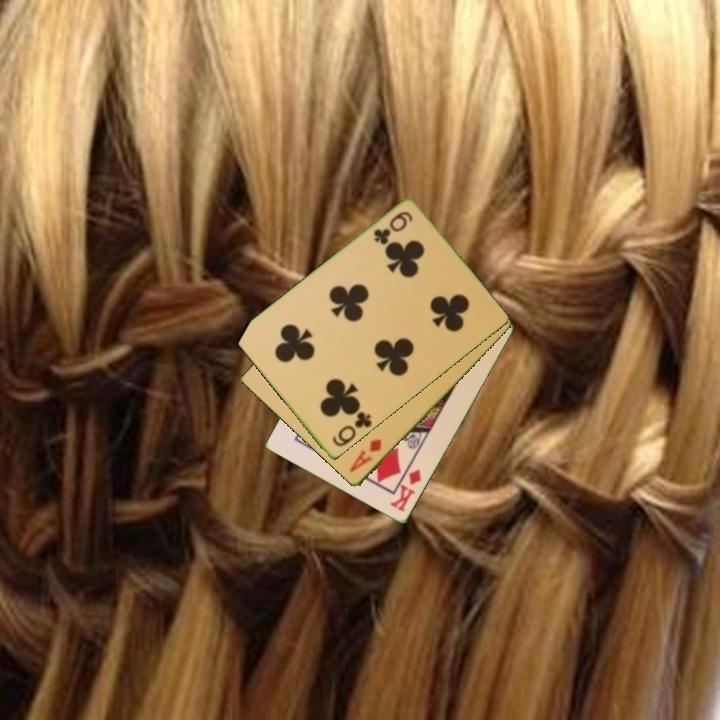6c: (328, 408, 375, 450), (370, 208, 416, 248)
Ad: (346, 436, 385, 476)
Kd: (387, 466, 425, 515)
